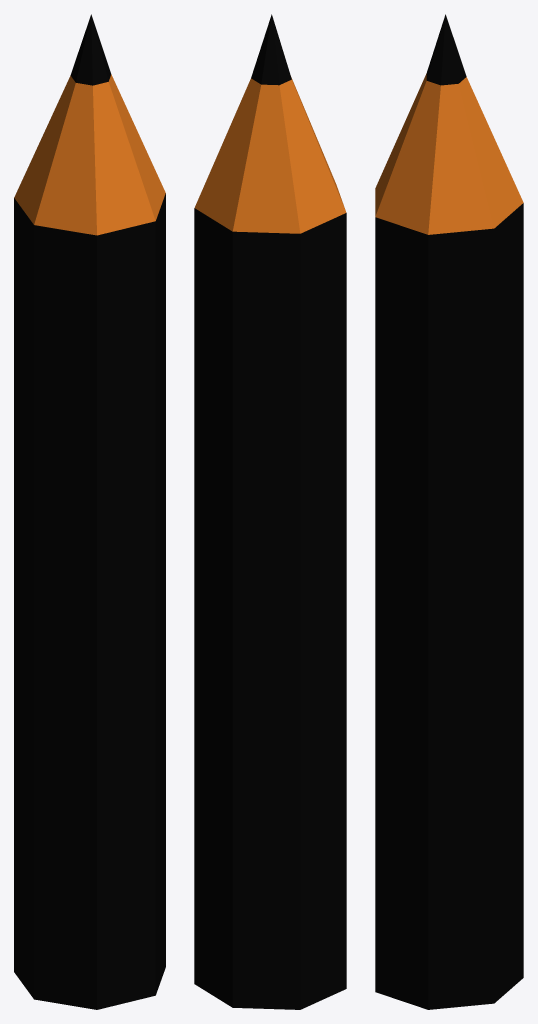
The model's file is pencil model.fbx.
3 renders of one model, left to right at view 1: azimuth 30°, elevation 25°; view 2: azimuth 150°, elevation 25°; view 3: azimuth 270°, elevation 25°, orthographic.
Parts seen in each view (by area): view 1: Cylinder; view 2: Cylinder; view 3: Cylinder.
Part boxes in pixels (x1,y1,x2,y2): Cylinder: (14, 14, 165, 1009); Cylinder: (194, 14, 346, 1009); Cylinder: (375, 14, 523, 1009).
Bounding box in the file's own units: 195 × 1362 × 190.
